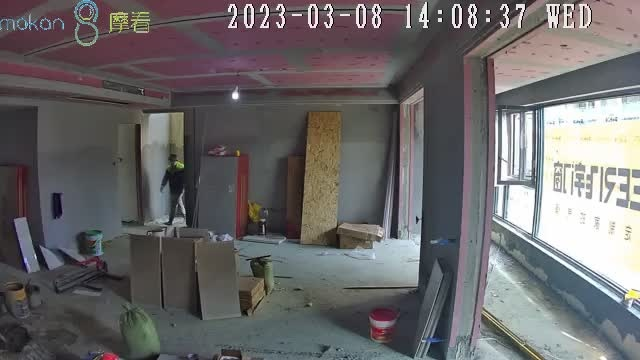people: (160, 155, 185, 224)
window: (495, 89, 640, 297)
